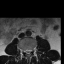CCS_normal: (27, 47, 29, 56)
LFS_normal: (31, 46, 33, 53)
LLS_normal: (29, 47, 31, 54)
RFS_normal: (23, 47, 25, 54)
RLS_normal: (25, 48, 27, 54)
